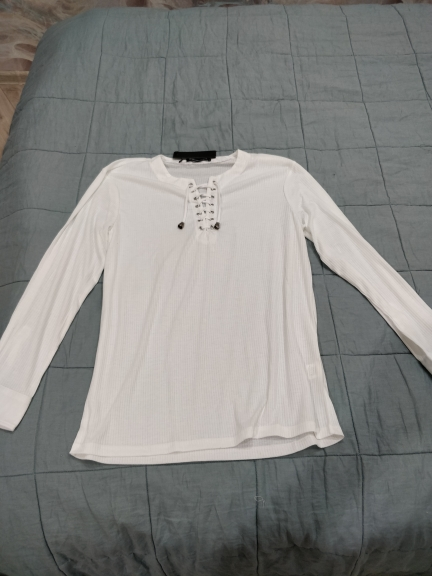shirts: (1, 152, 432, 462)
